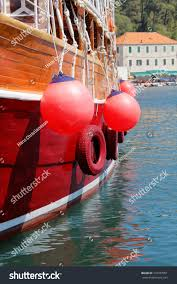buoy: (41, 79, 94, 134), (102, 92, 141, 131)
